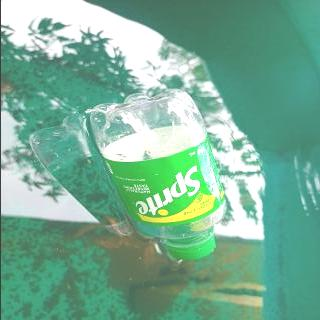bottle: (87, 87, 229, 262)
